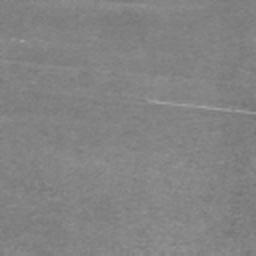Finishing roll printing: (148, 99, 256, 116)
